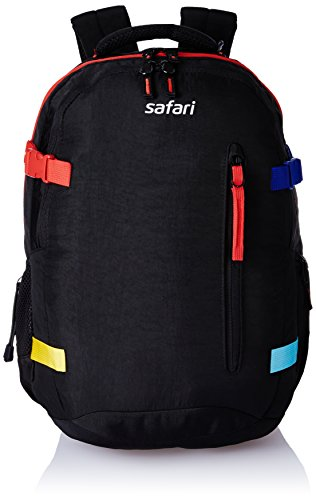backpack: (3, 4, 312, 450)
